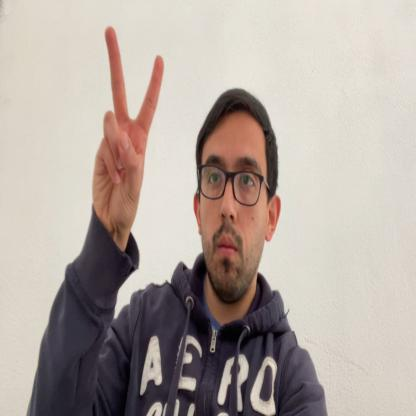V: (92, 24, 164, 247)
